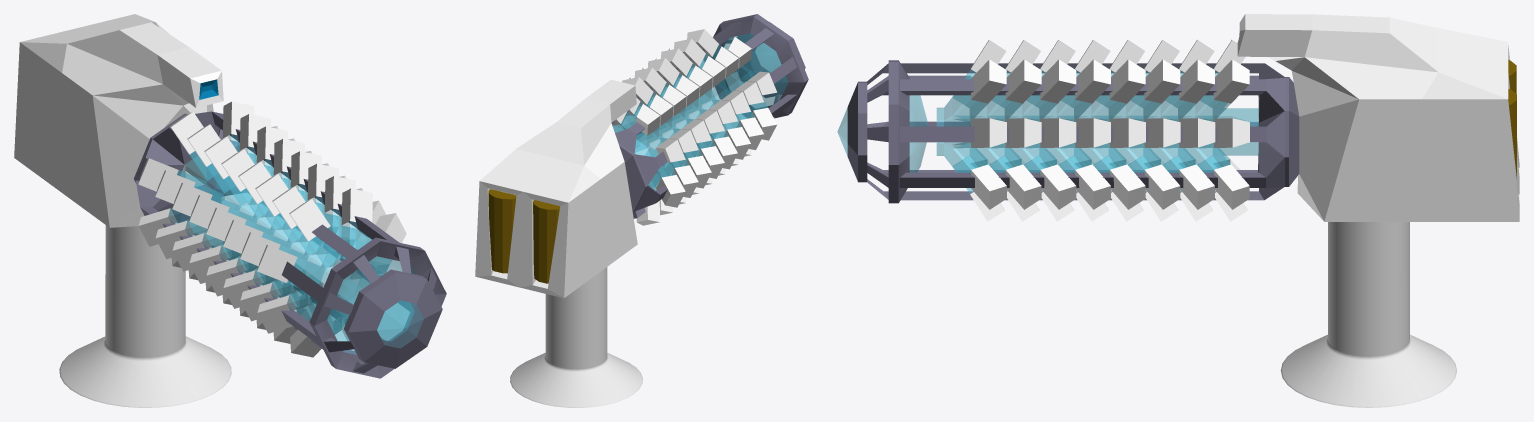
File: turretLaser.fbx
The picture shows the model from 3 angles, left to right: view 1: azimuth 30°, elevation 25°; view 2: azimuth 150°, elevation 25°; view 3: azimuth 270°, elevation 25°; orthographic projection. The views are drawn at different scales.
Parts seen in each view (by area): view 1: turret, Cylinder; view 2: turret, Cylinder; view 3: turret, Cylinder.
Part boxes in pixels (x1,y1,x2,y2): turret: (14, 14, 446, 378); Cylinder: (59, 164, 231, 407); turret: (475, 14, 808, 298); Cylinder: (510, 267, 642, 407); turret: (837, 14, 1519, 221); Cylinder: (1280, 222, 1456, 407).
Bounding box in the file's own units: 202 × 438 × 777.
